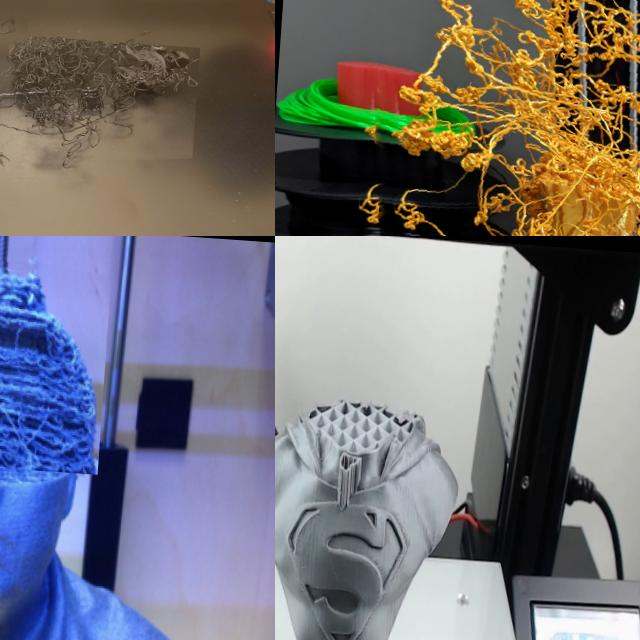spaghetti: (325, 0, 640, 236), (0, 239, 112, 474), (0, 36, 198, 164), (0, 7, 28, 43), (0, 148, 15, 176)
